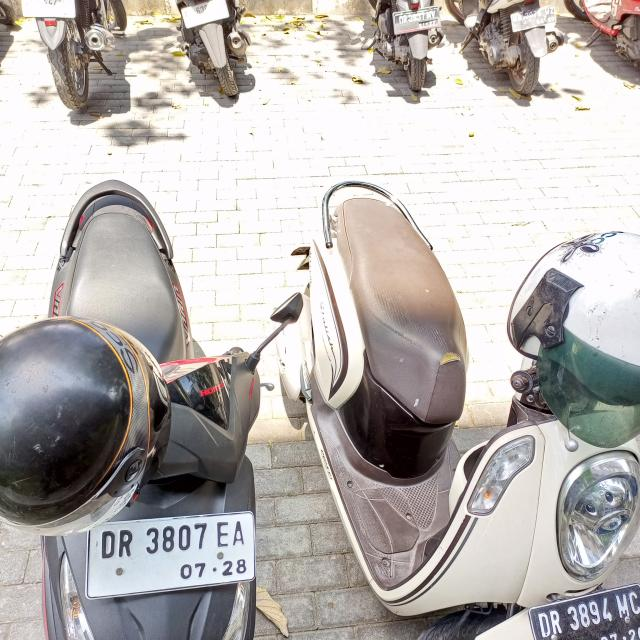plate: (90, 512, 258, 598), (529, 583, 640, 640), (393, 5, 441, 35), (510, 4, 557, 33)
